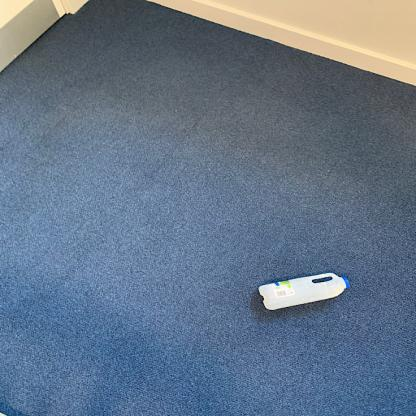trash: (255, 270, 354, 312)
